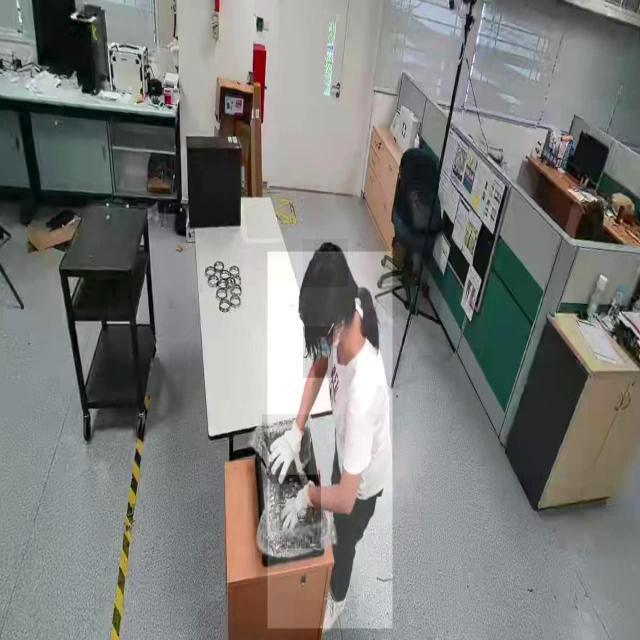gloves: (262, 414, 309, 484), (280, 474, 322, 550)
